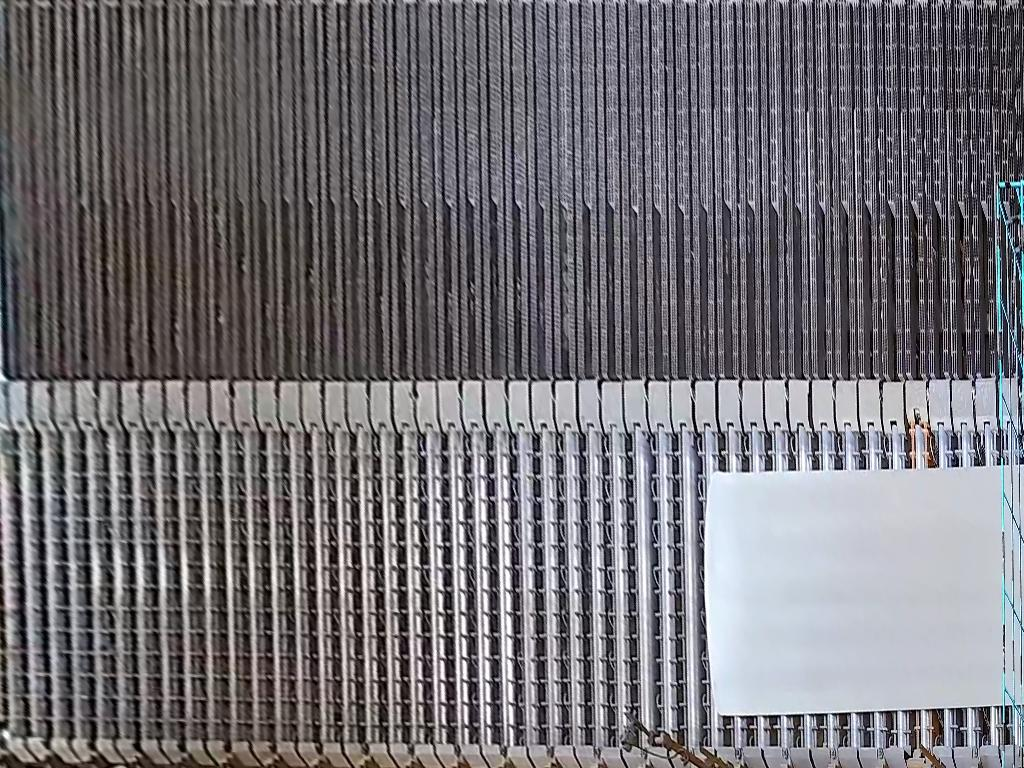steel: (706, 464, 1024, 719)
